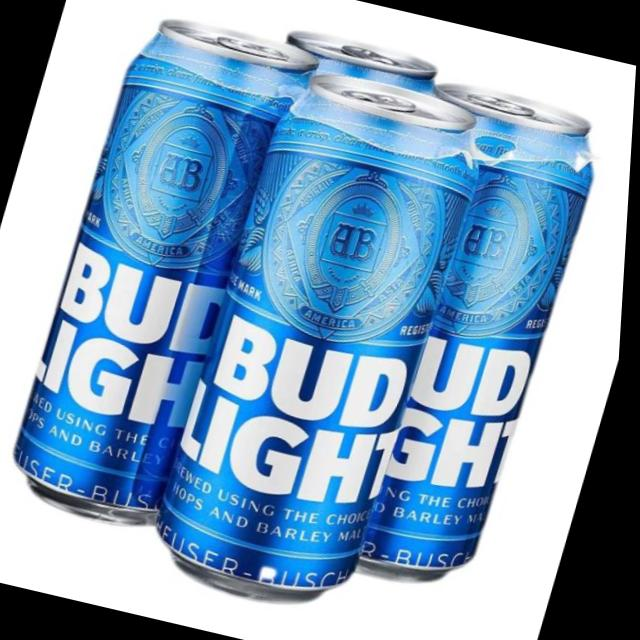Lata: (142, 64, 492, 619)
